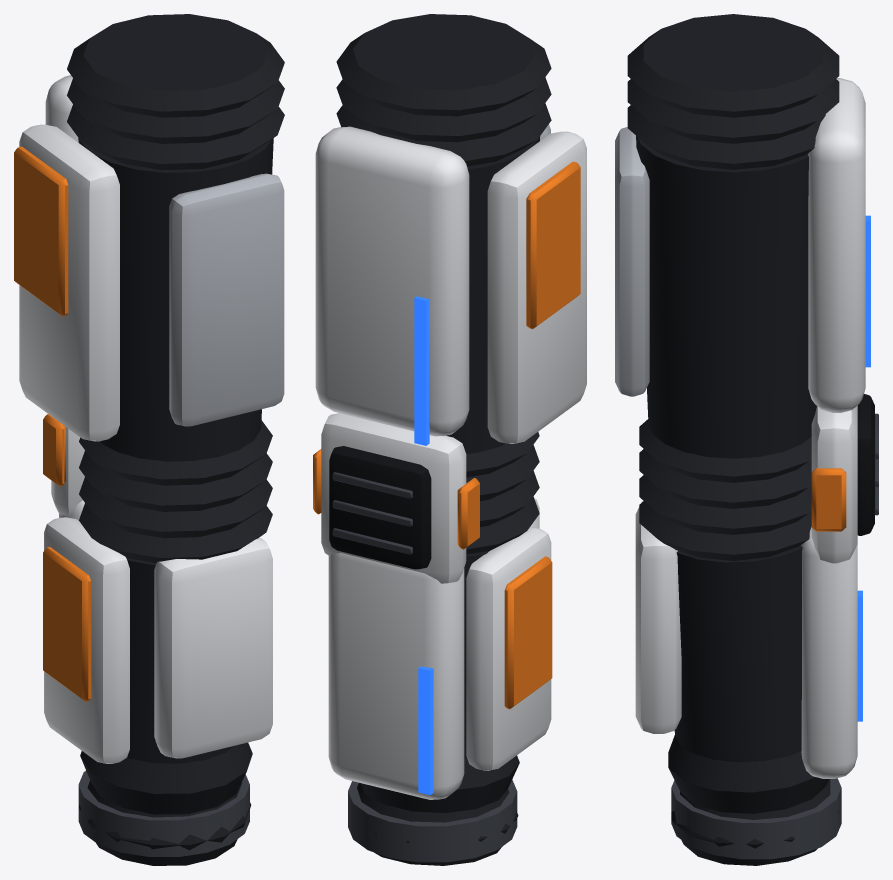
Rendered from leg_l.glb.
3 views of the same model, side by side, from view 1: azimuth 30°, elevation 25°; view 2: azimuth 150°, elevation 25°; view 3: azimuth 270°, elevation 25° (orthographic).
Visible parts, largest first — view 1: LegL_Undersuit, ShinL_Suit_White, LegL_Suit_Grey, ShinL_Undersuit, LegL_Suit_White, ShinL_Suit_Orange, LegL_Suit_Orange, ShinL_Metal_Dark; view 2: LegL_Suit_White, ShinL_Suit_White, LegL_Undersuit, ShinL_Metal_Dark, ShinL_Undersuit, ShinL_Rubber, ShinL_Suit_Orange, LegL_Suit_Orange, LegL_Strip_Blue, ShinL_Strip_Blue; view 3: LegL_Undersuit, ShinL_Undersuit, ShinL_Suit_White, LegL_Suit_White, LegL_Suit_Grey, ShinL_Metal_Dark, ShinL_Rubber, ShinL_Suit_Orange, LegL_Strip_Blue, ShinL_Strip_Blue.
Boxes of the visible parts, x1,y1,x2,y2 form: LegL_Undersuit: [67, 14, 284, 511]; ShinL_Suit_White: [44, 427, 272, 763]; LegL_Suit_Grey: [169, 173, 284, 426]; ShinL_Undersuit: [78, 477, 272, 865]; LegL_Suit_White: [19, 75, 119, 441]; ShinL_Suit_Orange: [43, 414, 91, 701]; LegL_Suit_Orange: [14, 146, 68, 316]; ShinL_Metal_Dark: [78, 770, 249, 856]; LegL_Suit_White: [315, 126, 586, 443]; ShinL_Suit_White: [321, 413, 551, 799]; LegL_Undersuit: [336, 14, 551, 501]; ShinL_Metal_Dark: [332, 472, 517, 862]; ShinL_Undersuit: [357, 470, 539, 865]; ShinL_Rubber: [329, 446, 431, 569]; ShinL_Suit_Orange: [313, 449, 552, 709]; LegL_Suit_Orange: [526, 161, 580, 329]; LegL_Strip_Blue: [414, 296, 429, 445]; ShinL_Strip_Blue: [418, 666, 433, 795]; LegL_Undersuit: [627, 14, 839, 508]; ShinL_Undersuit: [639, 475, 838, 865]; ShinL_Suit_White: [635, 405, 857, 778]; LegL_Suit_White: [808, 78, 865, 412]; LegL_Suit_Grey: [615, 127, 649, 396]; ShinL_Metal_Dark: [671, 413, 878, 859]; ShinL_Rubber: [857, 394, 874, 535]; ShinL_Suit_Orange: [811, 468, 846, 531]; LegL_Strip_Blue: [865, 215, 870, 367]; ShinL_Strip_Blue: [857, 590, 862, 721].
Size of the model in its own units: 0.2219 by 0.7532 by 0.2295.
